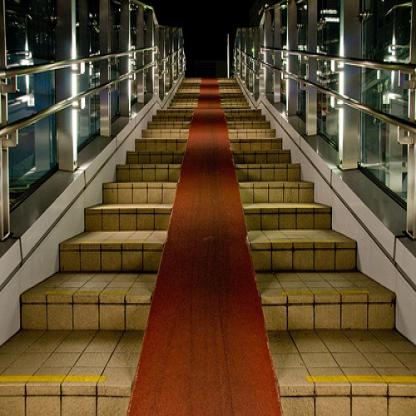stairs: (299, 243, 356, 416)
